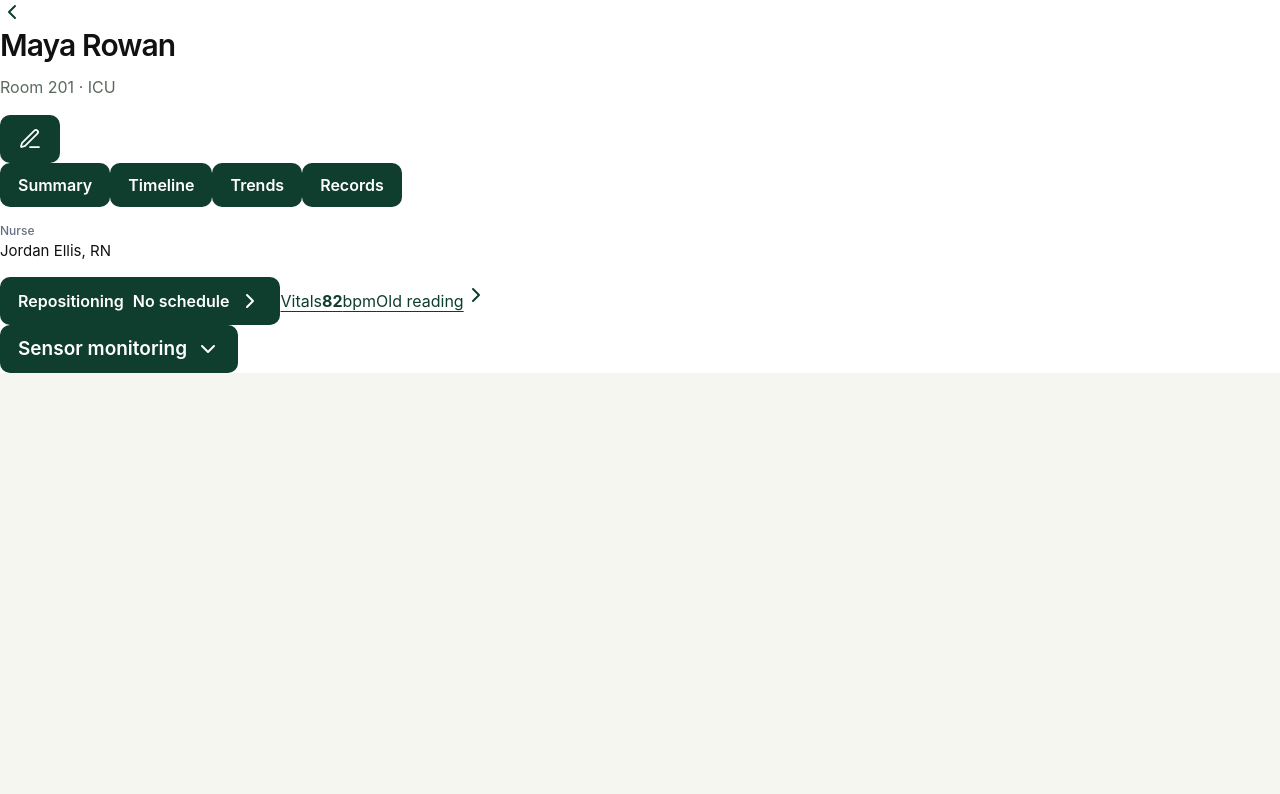
Bedside mobile redesign › keeps simulated ICU region sources and the nursing review warning visible
What coordinates should you click on to do the following:
click the button "Sensor monitoring"
I would click on:
 (119, 349)
Its box is [0, 325, 238, 373].
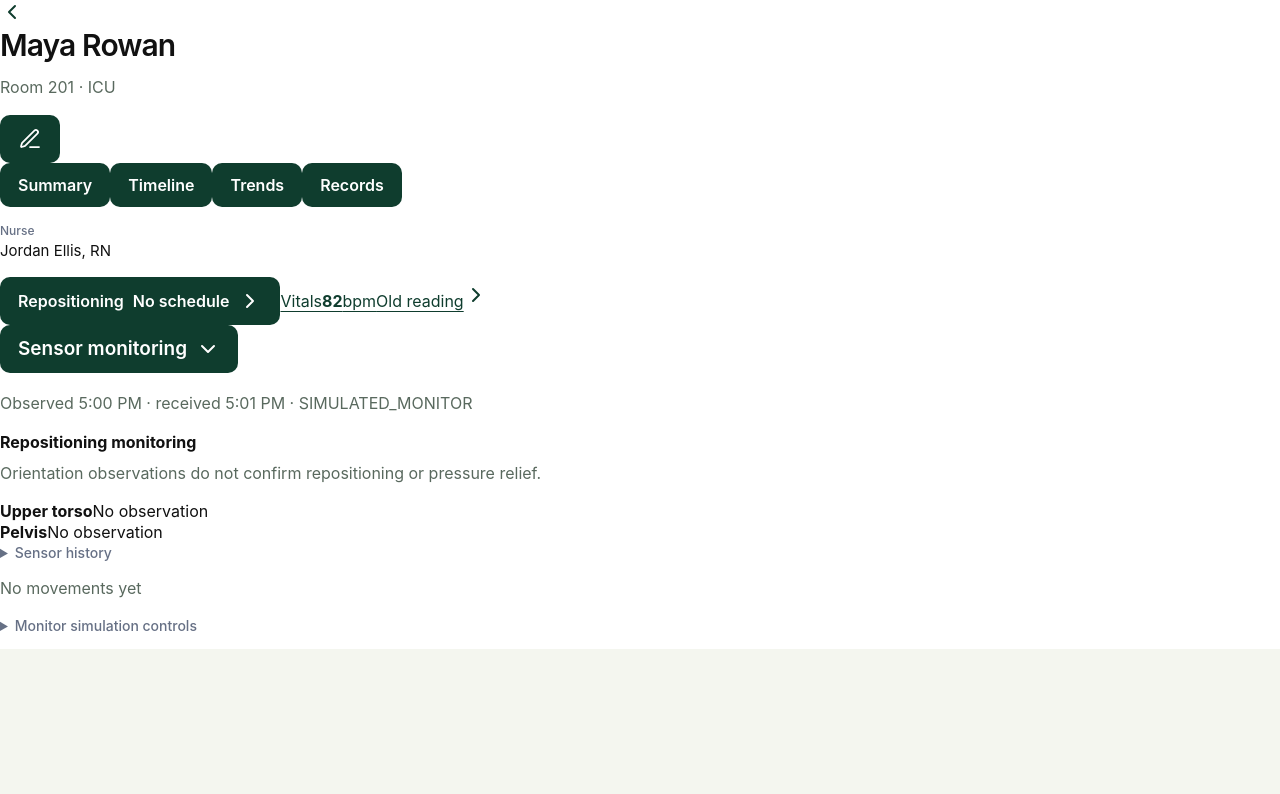
Now the text "Upper torso" is shown, box [0, 501, 92, 521]
Now the text "Orientation observations do not confirm" is shown, box [0, 463, 541, 483]
What coordinates should you click on to do the following:
click the heading "Sensor history"
I would click on:
 (63, 552)
Its box is [15, 544, 112, 561].
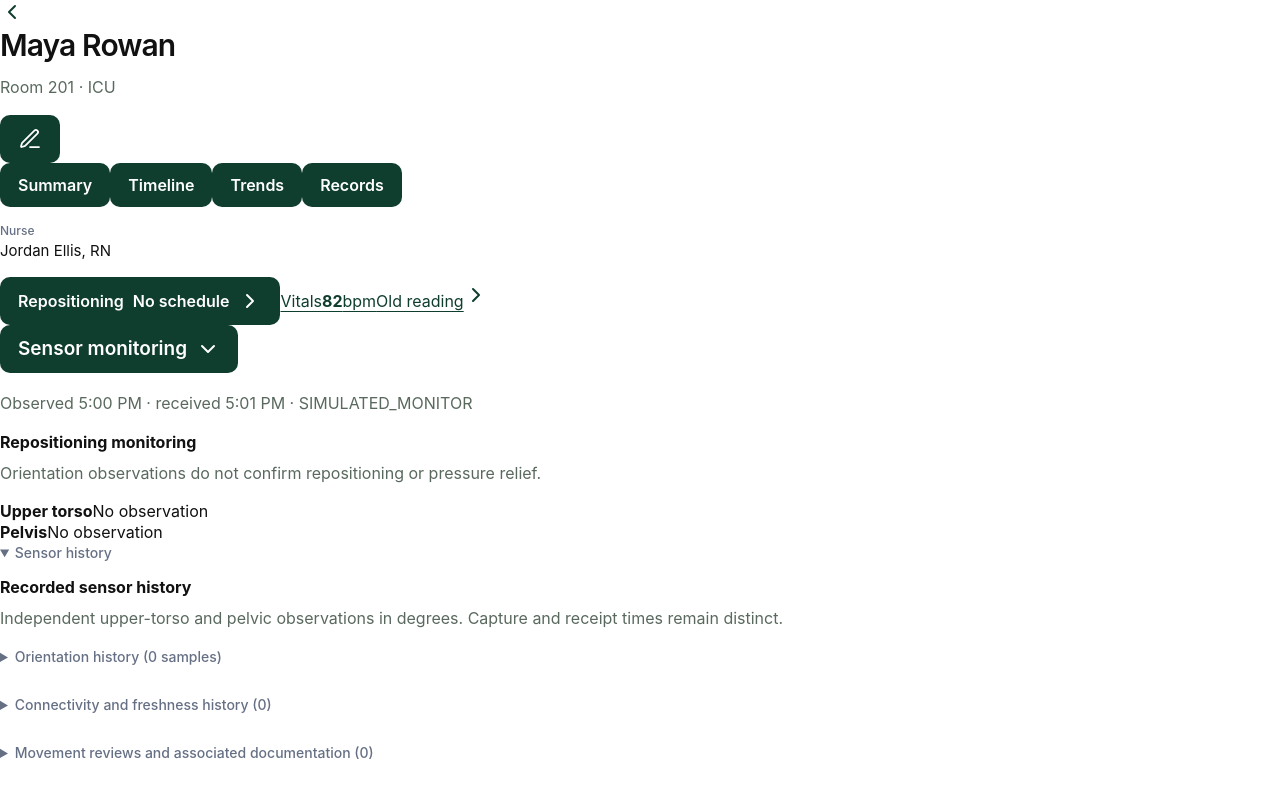
Now the text "Independent upper-torso" is shown, box [0, 608, 392, 628]
What coordinates should you click on to do the following:
click the button "Sensor monitoring"
I would click on:
 (119, 349)
Its box is [0, 325, 238, 373].
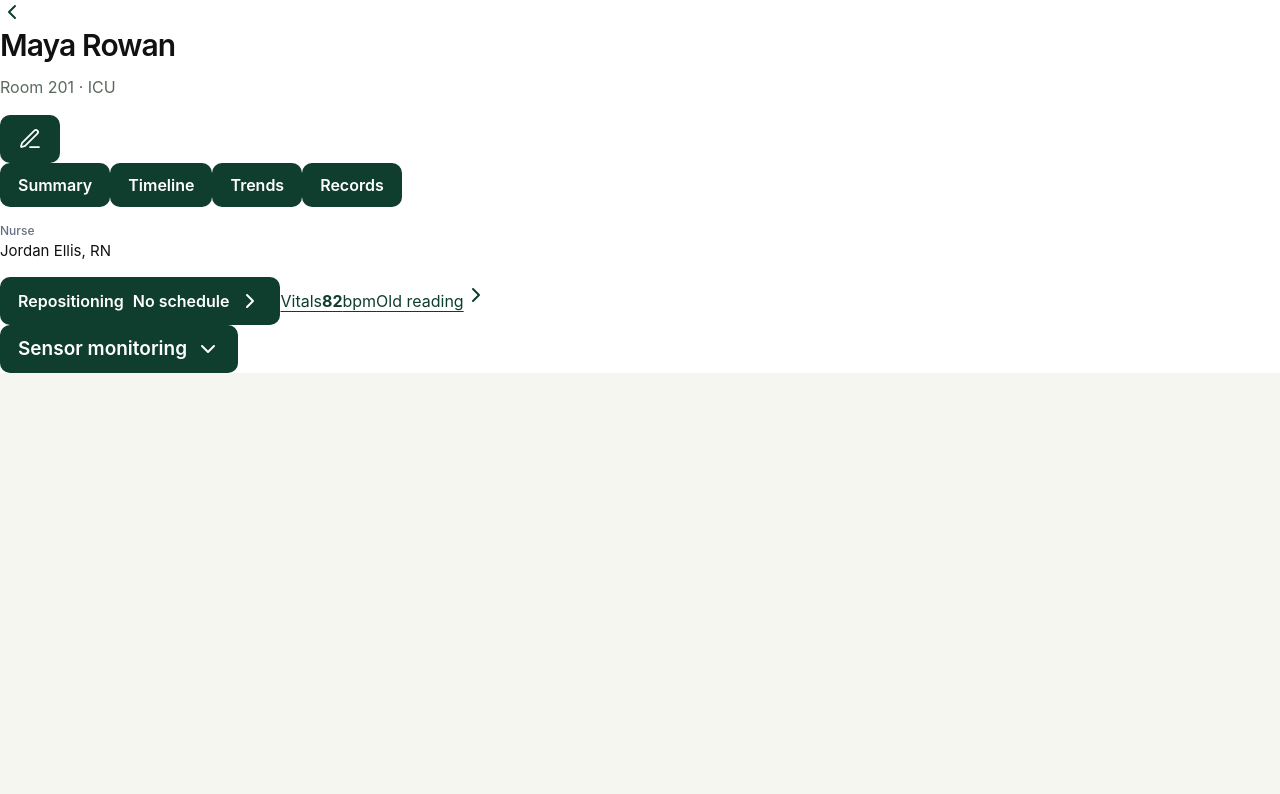
// Patients redesign: the event history is the Timeline tab.
What coordinates should you click on to do the following:
click the tab "Timeline"
I would click on:
 (161, 185)
Its box is [110, 163, 212, 207].
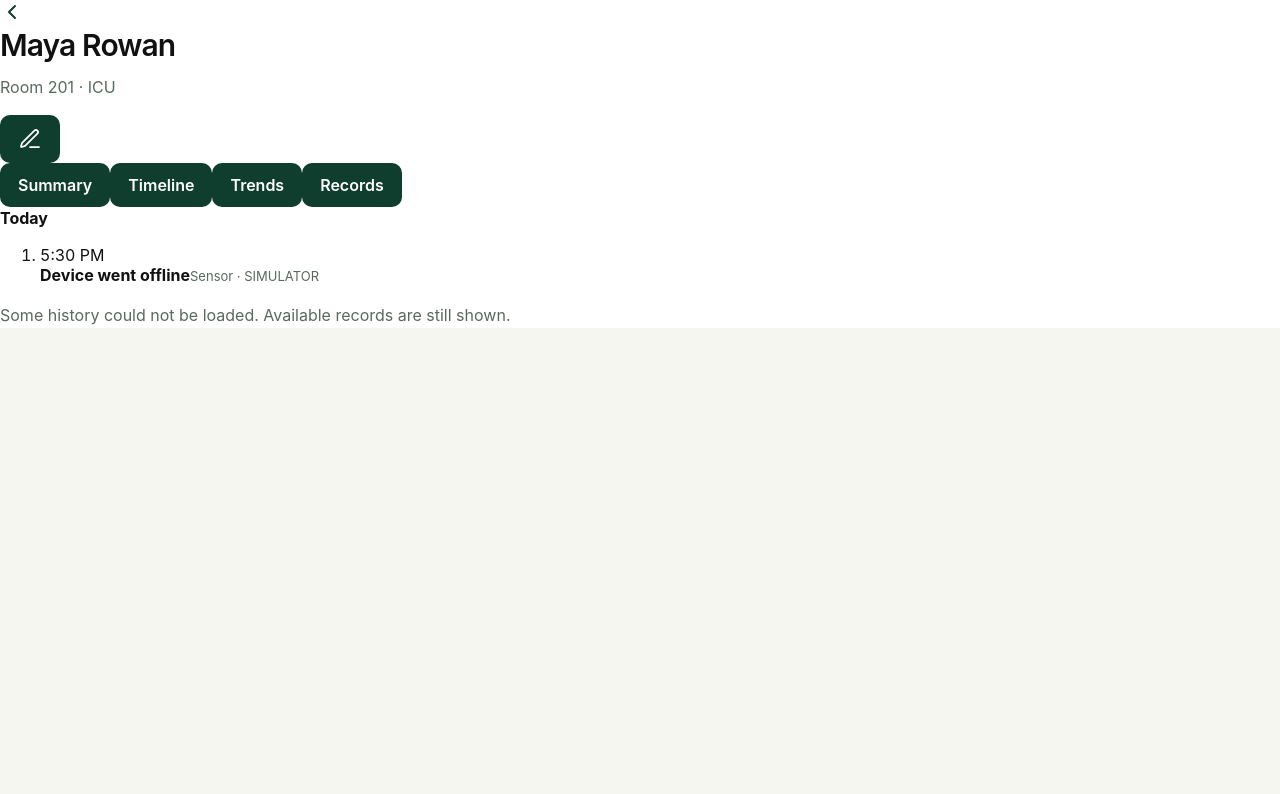
Now the element named "Patient timeline" is shown, box [0, 208, 510, 325]
